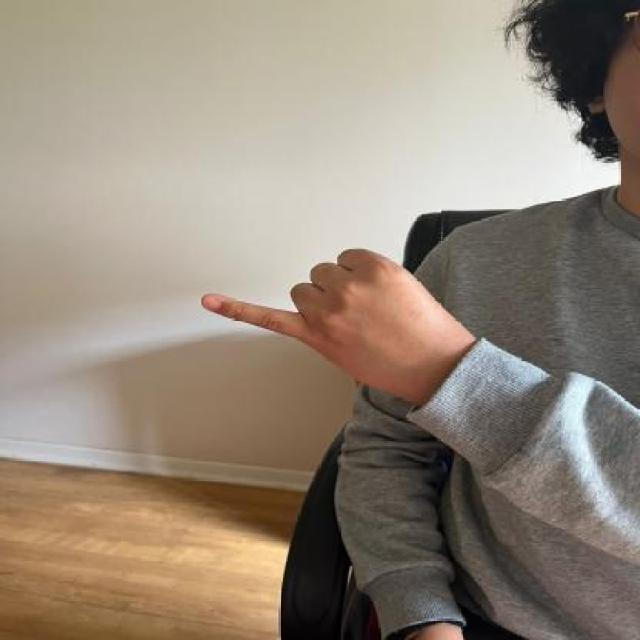J: (189, 238, 460, 394)
